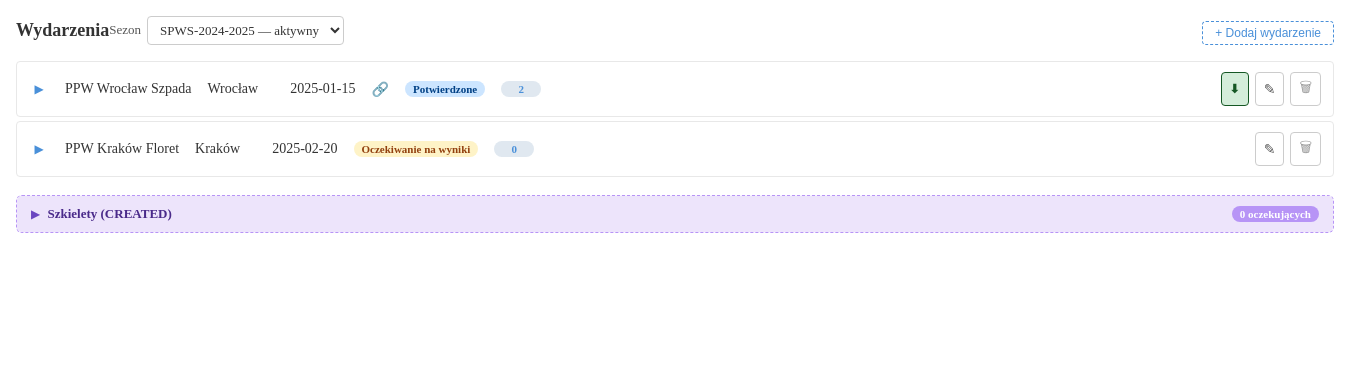
Test case: EventManager Accordion (Phase 6) › tournament row shows code, weapon, category, import status
Click the button "▶" next to "PPW Wrocław Szpada" at (39, 89), box [29, 78, 49, 100]
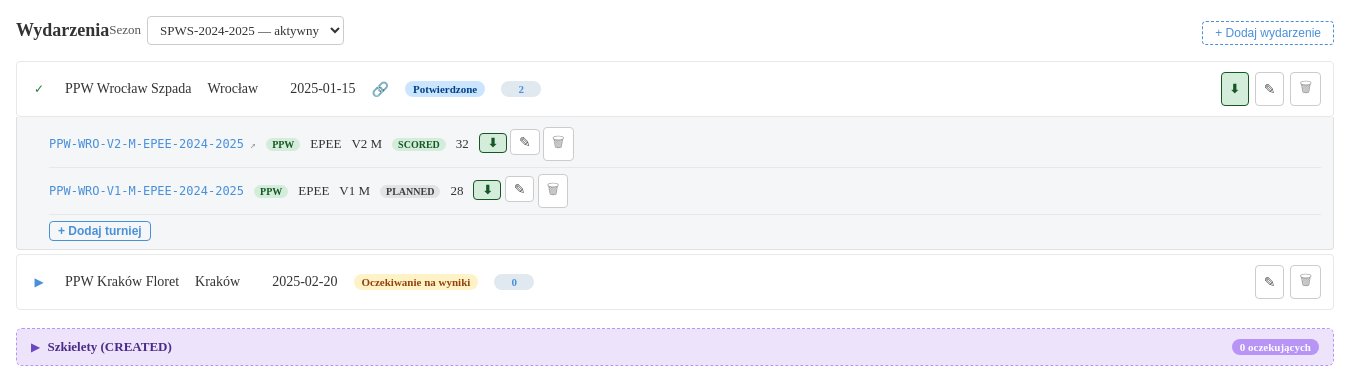
Now the element showing "PPW-WRO-V2-M-EPEE-2024-2025" is shown, box [49, 137, 256, 151]
Now the text "SCORED" is shown, box [392, 138, 446, 150]
